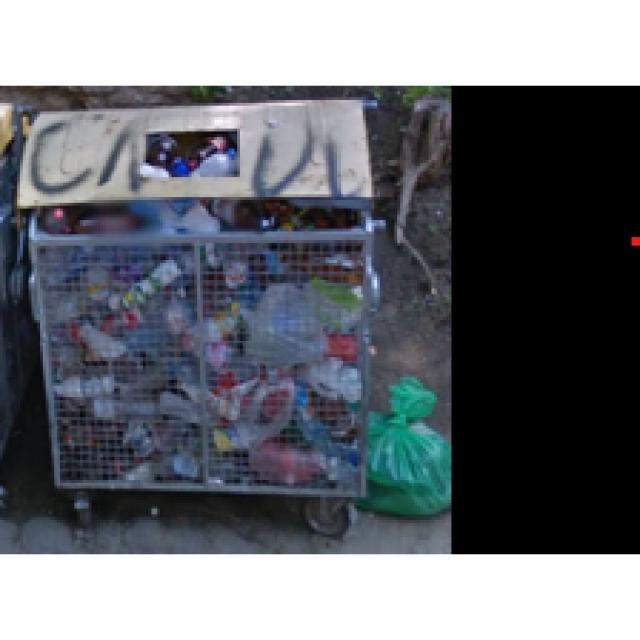plastic trash bin: (25, 108, 413, 562)
